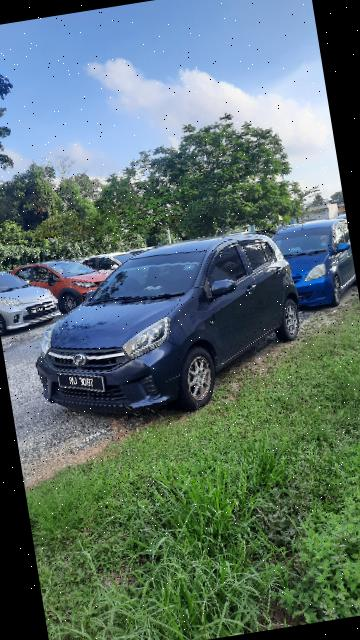License_Plate: (51, 364, 110, 406)
car: (18, 224, 322, 435)
